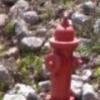a fire hydrant: (44, 22, 84, 97)
